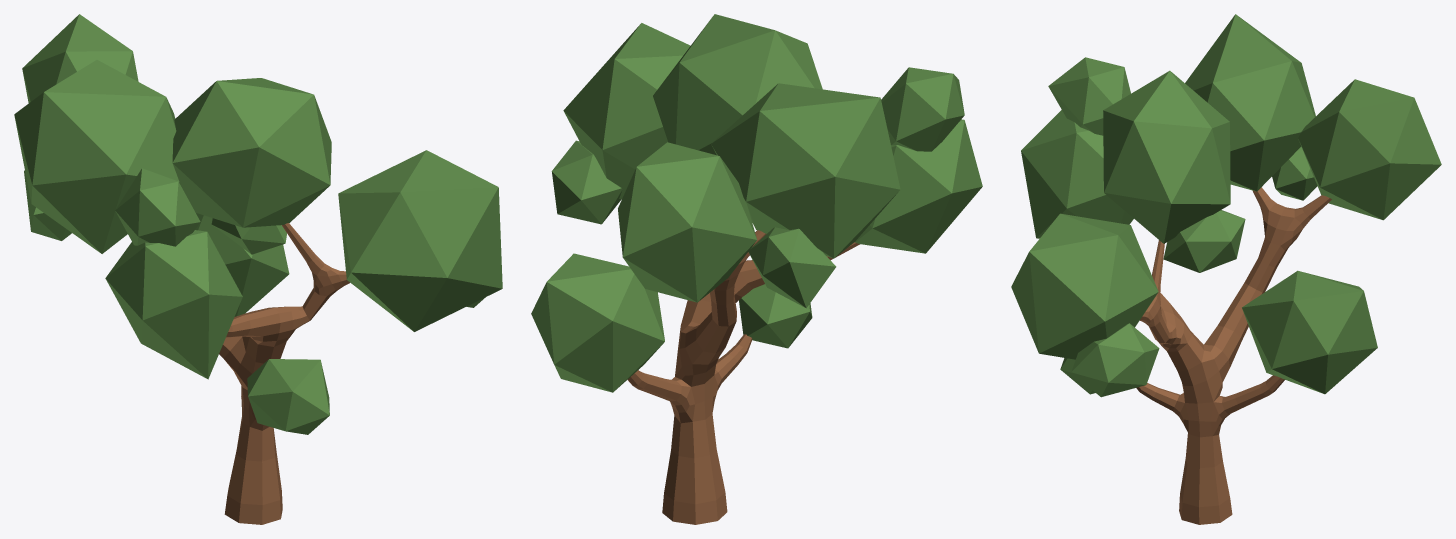
File: 053 Tree_1.FBX
The picture shows the model from 3 angles, left to right: view 1: azimuth 30°, elevation 25°; view 2: azimuth 150°, elevation 25°; view 3: azimuth 270°, elevation 25°; orthographic projection. The views are drawn at different scales.
Parts seen in each view (by area): view 1: Tree 093; view 2: Tree 093; view 3: Tree 093.
Part boxes in pixels (x1,y1,x2,y2): Tree 093: (14,14,502,524); Tree 093: (531,14,982,524); Tree 093: (1011,14,1441,524).
Bounding box in the file's own units: 421 × 467 × 436.
